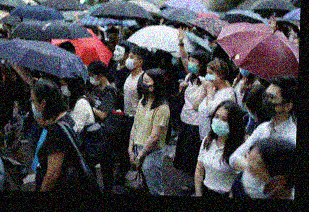with_mask: (239, 161, 270, 198), (260, 90, 283, 117), (210, 111, 231, 137), (28, 96, 41, 119), (139, 77, 154, 95), (111, 46, 125, 63), (204, 69, 218, 85), (124, 54, 137, 71), (187, 57, 199, 74), (59, 80, 71, 97), (87, 72, 100, 86)
